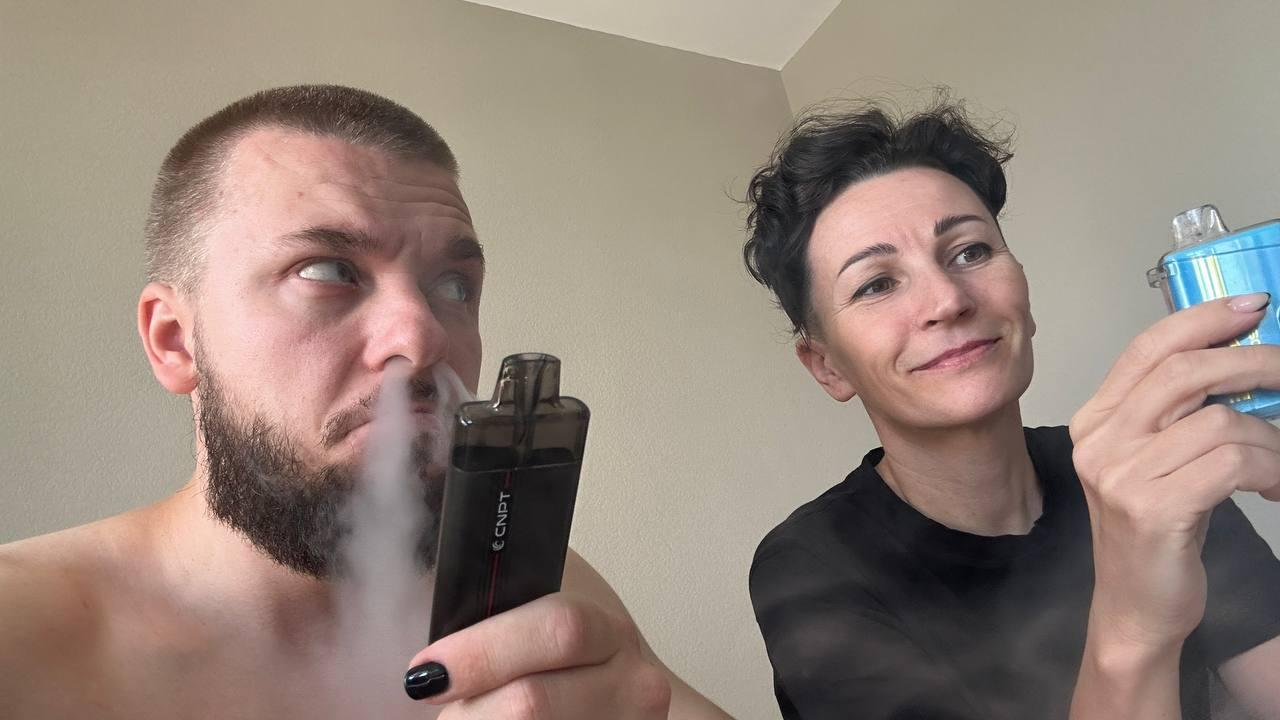Vape: (430, 353, 590, 641), (1158, 205, 1280, 419)
